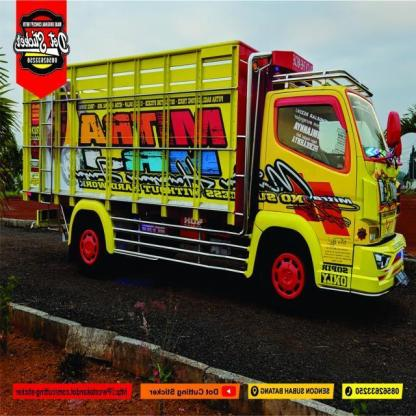truck: (21, 43, 410, 303)
